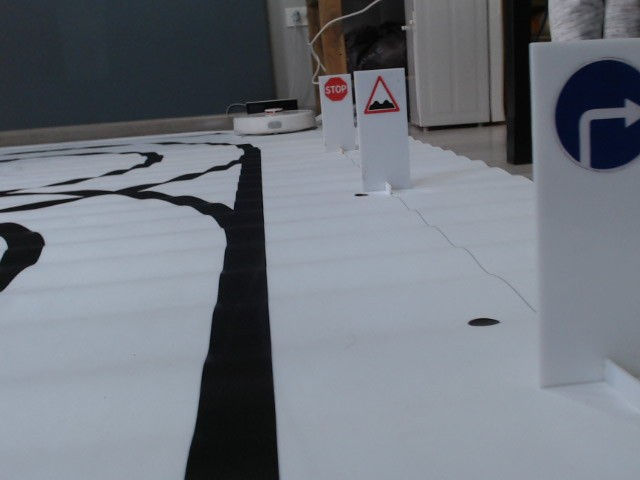Nerov: (363, 74, 400, 114)
Right: (551, 56, 640, 175)
Stop: (322, 77, 349, 101)
